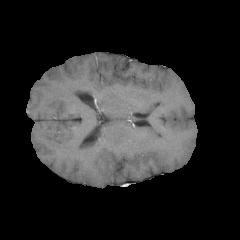glioma: (70, 138, 112, 159)
